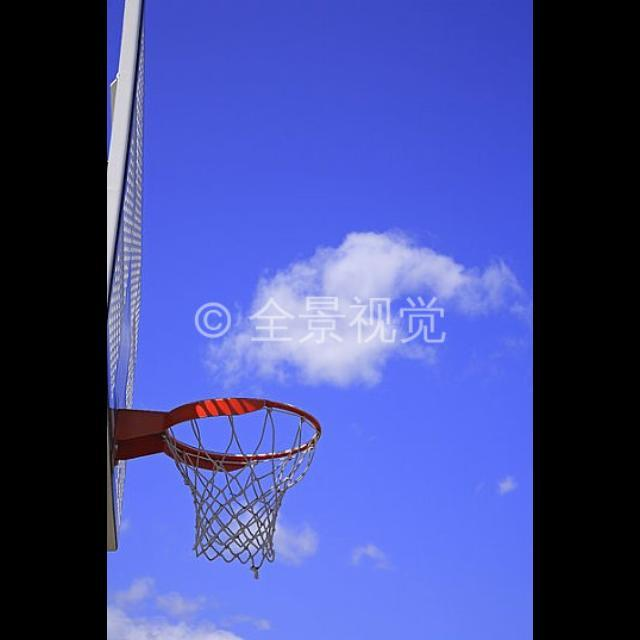rim: (162, 396, 322, 568)
